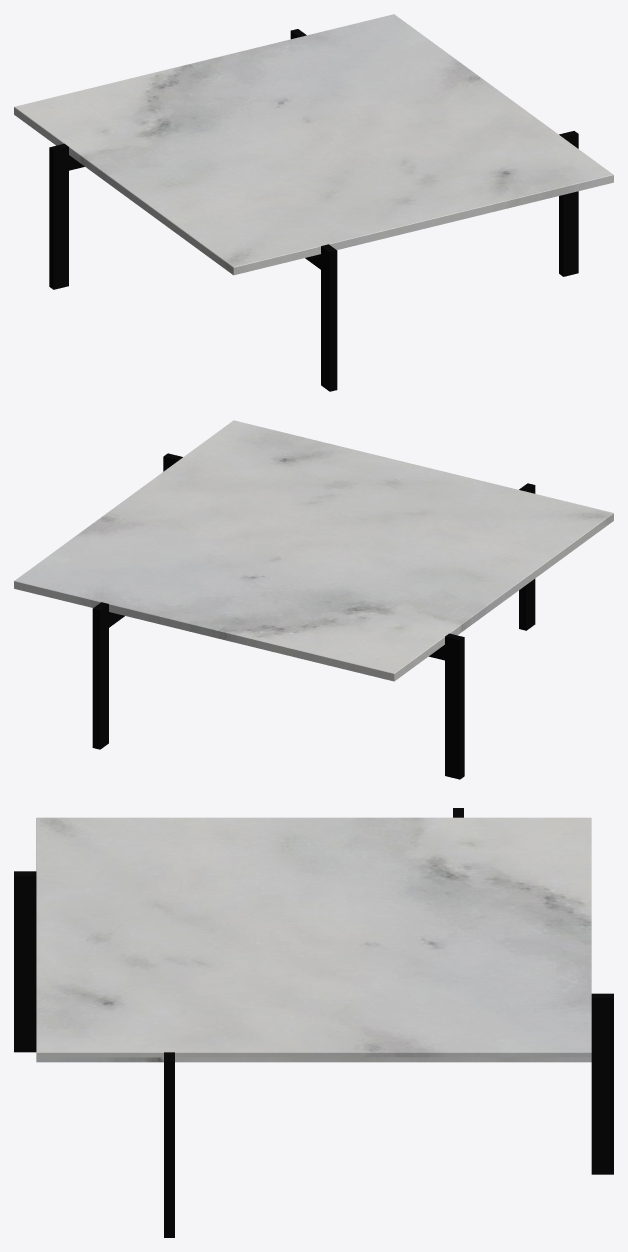
The model's file is virtuose.glb.
3 renders of one model, top to bottom at view 1: azimuth 30°, elevation 25°; view 2: azimuth 150°, elevation 25°; view 3: azimuth 270°, elevation 25°, orthographic. The views are drawn at different scales.
Visible parts, largest first — view 1: Plaque_Marbre_, Pieds; view 2: Plaque_Marbre_, Pieds; view 3: Plaque_Marbre_, Pieds.
Part boxes in pixels (left/top/right/bottom): Plaque_Marbre_: left=14, top=14, right=613, bottom=275; Pieds: left=49, top=29, right=578, bottom=391; Plaque_Marbre_: left=14, top=420, right=613, bottom=681; Pieds: left=92, top=453, right=535, bottom=779; Plaque_Marbre_: left=36, top=817, right=591, bottom=1062; Pieds: left=14, top=808, right=613, bottom=1237.
Size of the model in its own units: 1.08 by 0.35 by 1.08.
Materials: 2 (1 with a texture image).
